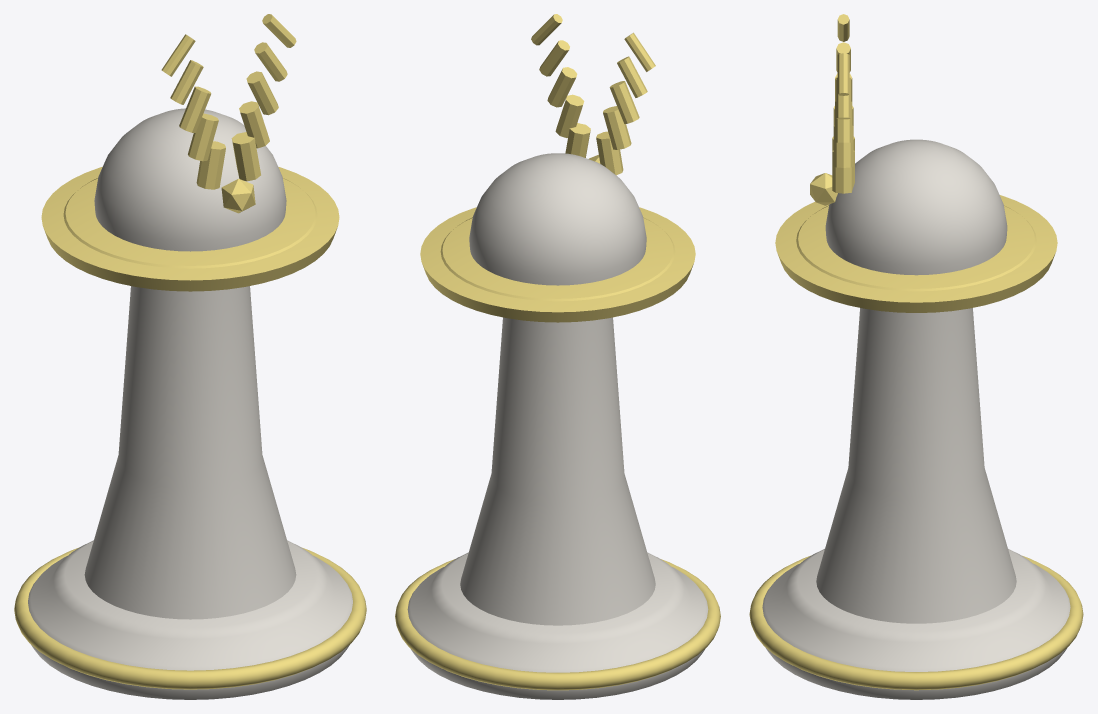
The model's file is Kioto_Rey.fbx.
3 renders of one model, left to right at view 1: azimuth 30°, elevation 25°; view 2: azimuth 150°, elevation 25°; view 3: azimuth 270°, elevation 25°, orthographic. The views are drawn at different scales.
Visible parts, largest first — view 1: Kioto_Rey; view 2: Kioto_Rey; view 3: Kioto_Rey.
Part boxes in pixels (x1,y1,x2,y2): Kioto_Rey: (14, 14, 366, 699); Kioto_Rey: (395, 14, 720, 699); Kioto_Rey: (749, 14, 1083, 699).
Size of the model in its own units: 0.7335 by 1.46 by 0.7335.
